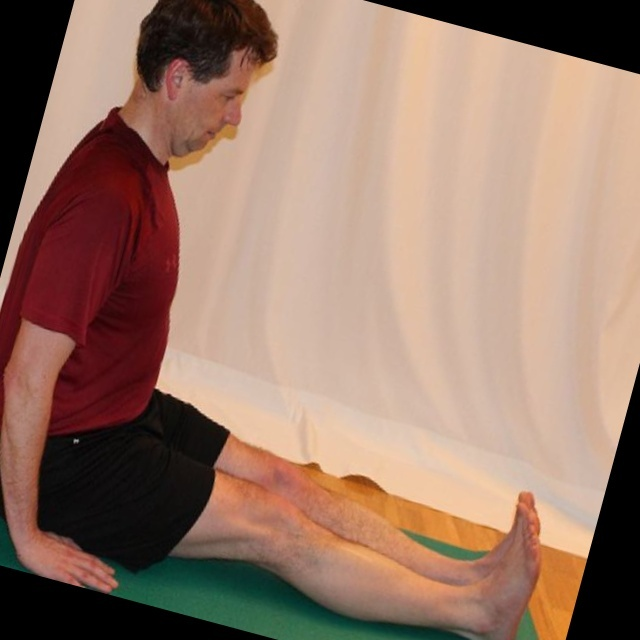Staff_Pose: (3, 1, 543, 636)
